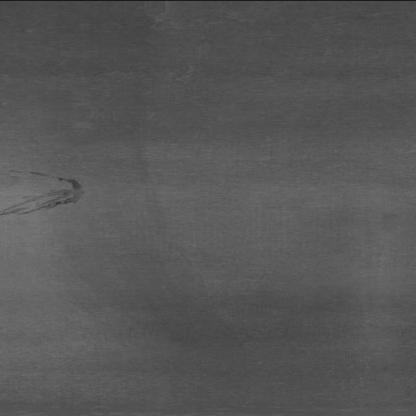water_spot: (2, 157, 94, 223)
